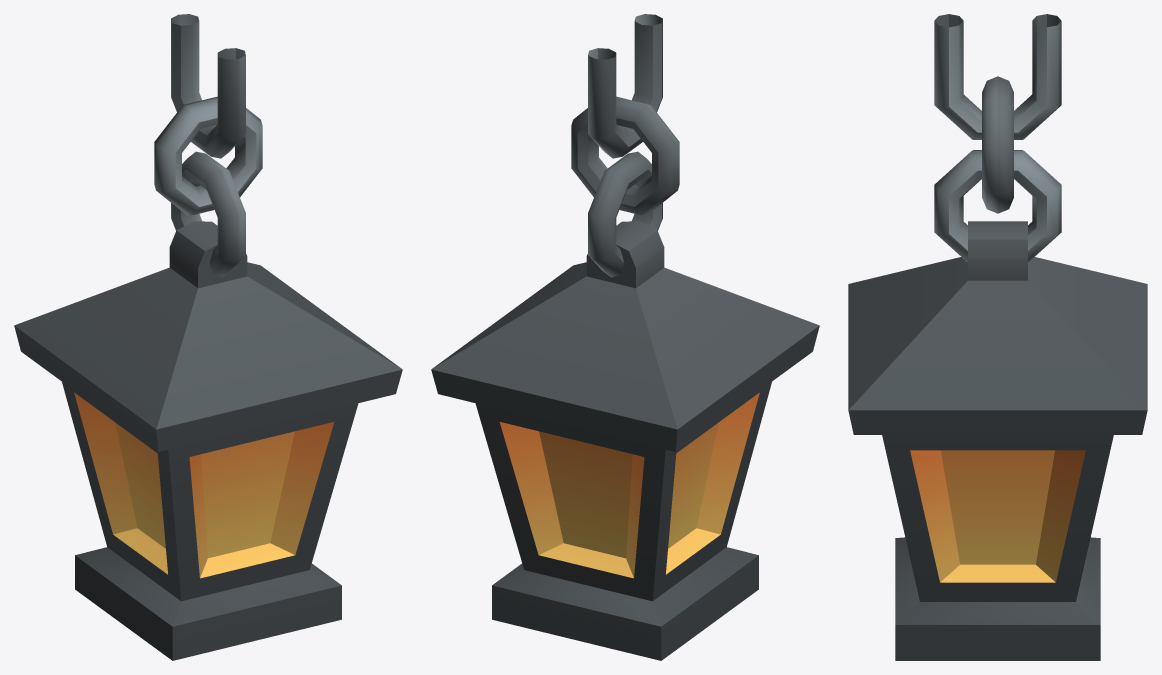
File: lantern_hanging.obj
The picture shows the model from 3 angles, left to right: view 1: azimuth 30°, elevation 25°; view 2: azimuth 150°, elevation 25°; view 3: azimuth 270°, elevation 25°; orthographic projection. The views are drawn at different scales.
Parts seen in each view (by area): view 1: lantern_hanging_Cube.637; view 2: lantern_hanging_Cube.637; view 3: lantern_hanging_Cube.637.
Boxes of the visible parts, box(x1,y1,x2,y2) form: lantern_hanging_Cube.637: box(14, 14, 402, 660); lantern_hanging_Cube.637: box(431, 14, 819, 660); lantern_hanging_Cube.637: box(848, 14, 1147, 660).
Size of the model in its own units: 0.64 by 1.41 by 0.64.
1 material, 1 textured.
